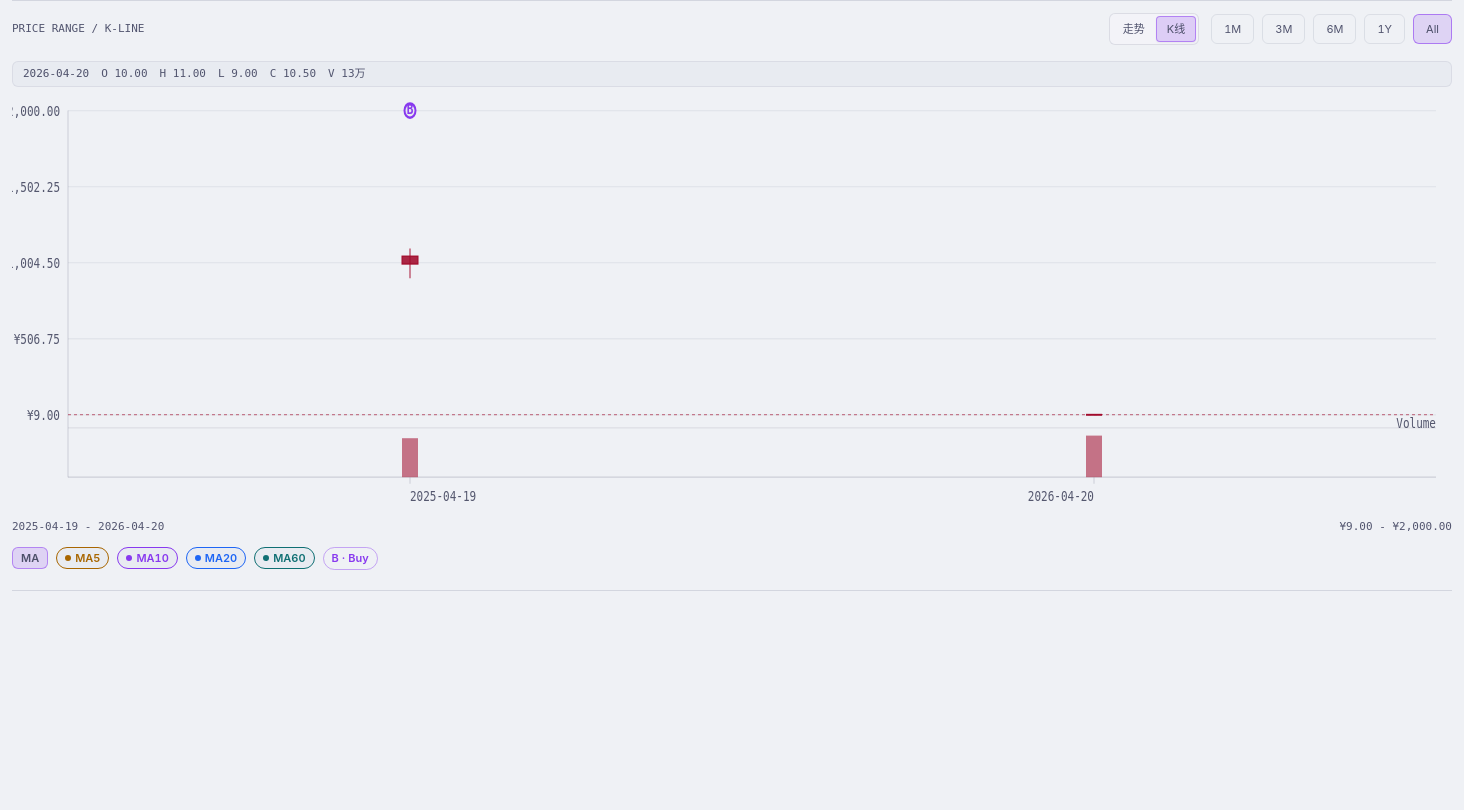
Scenario: excludes out-of-range trade markers from the selected range axis
Check: the element with test id "kline-trade-marker-buy" is shown, box [407,101,413,118]
Click the button named "Show 1M K-line range".
click(1233, 29)  # box [1211,14,1254,44]
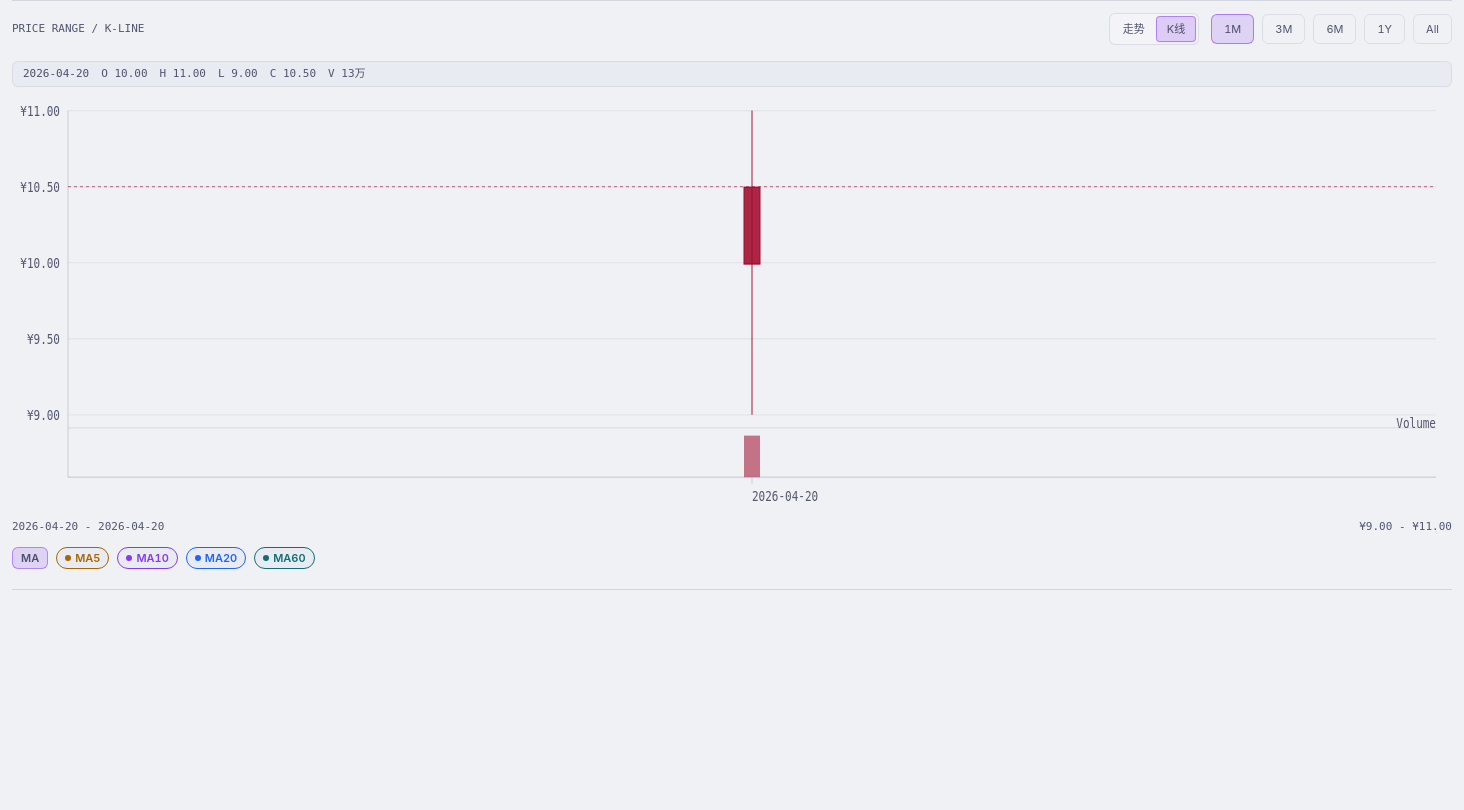
Check: the text "¥9.00 - ¥11.00" is shown, box [1359,519,1452,535]
